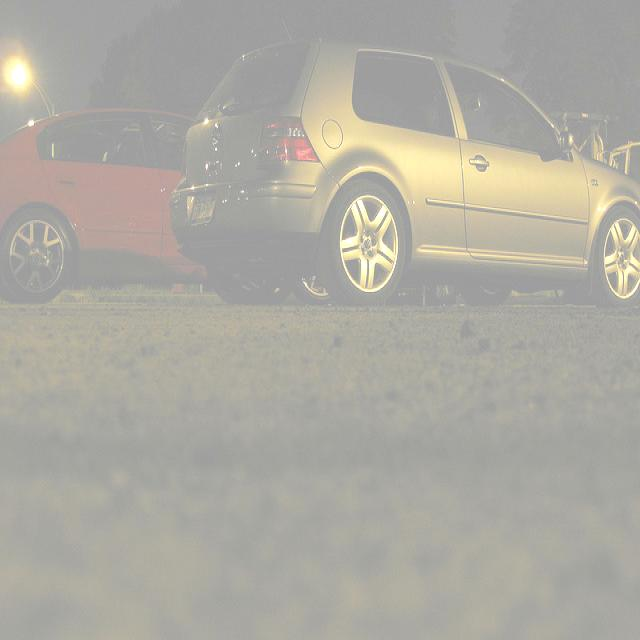Car: (179, 25, 640, 320), (4, 99, 210, 304)
